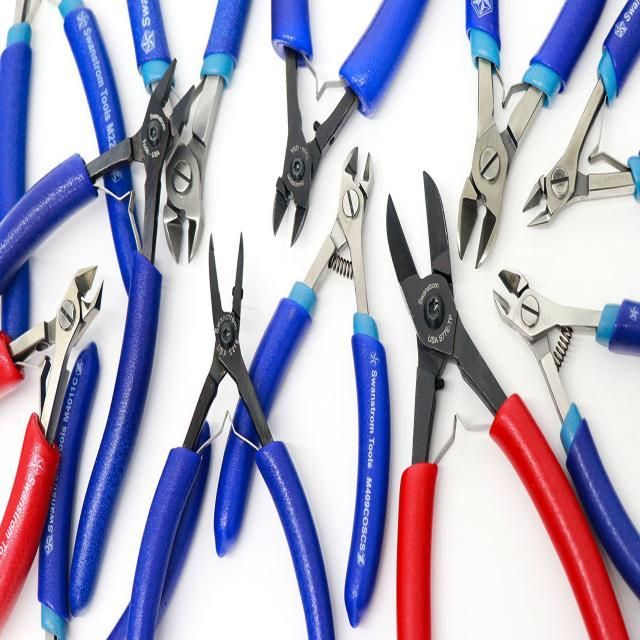pliers: (382, 163, 630, 640), (0, 50, 199, 620), (211, 141, 395, 634), (122, 226, 337, 640), (489, 266, 640, 607), (453, 0, 611, 272), (266, 0, 432, 248), (0, 260, 107, 626), (121, 0, 256, 269), (519, 1, 640, 238)
